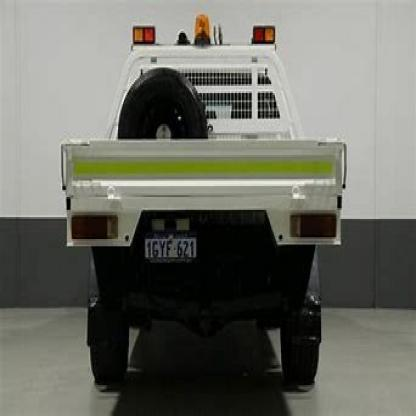light_vehicle: (55, 14, 348, 402)
